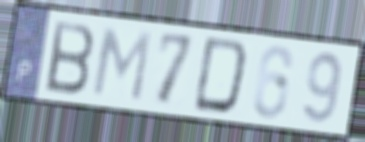6: (251, 44, 294, 121)
7: (156, 30, 195, 109)
9: (301, 49, 345, 127)
B: (43, 18, 97, 98)
D: (190, 34, 251, 117)
M: (89, 24, 154, 105)
